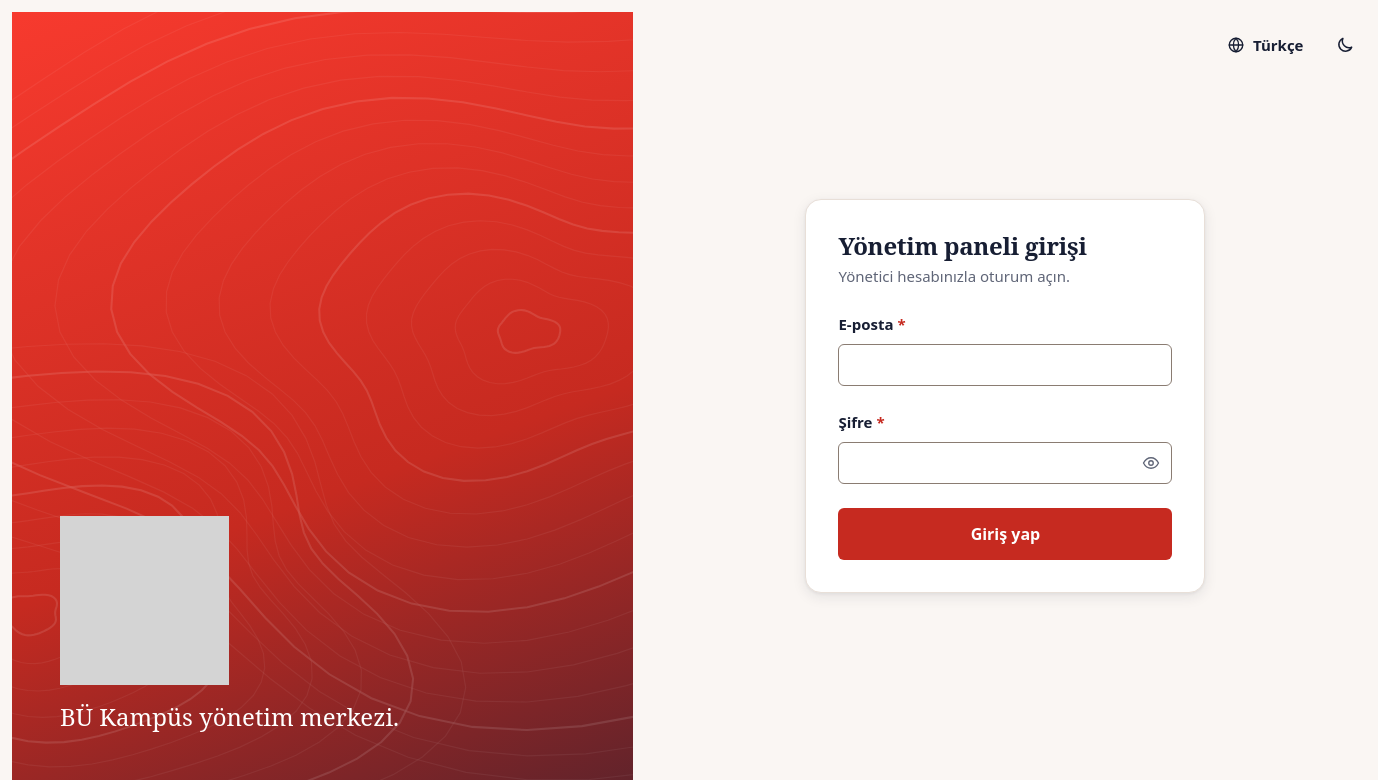
Scenario: giriş sayfası › hata kodunu çevrilmiş mesajla gösterir (EMAIL_NOT_VERIFIED)
Type "x@bingol.edu.tr" into the field labelled "E-posta *". click: coordinates (1005, 365)
box: [838,344,1172,386]
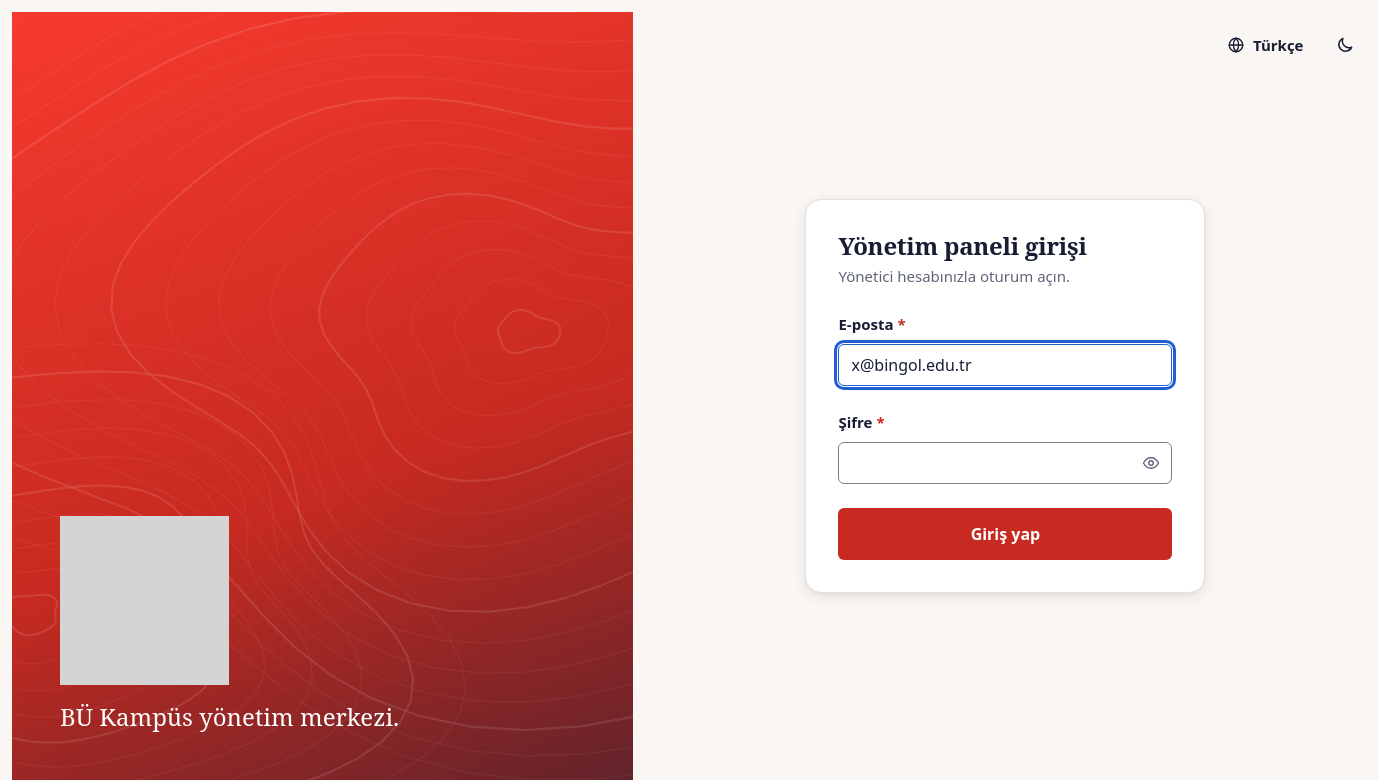
Type "sifre1234" into the password field labelled "Şifre *". click: coordinates (1005, 463)
box: [838,442,1172,484]
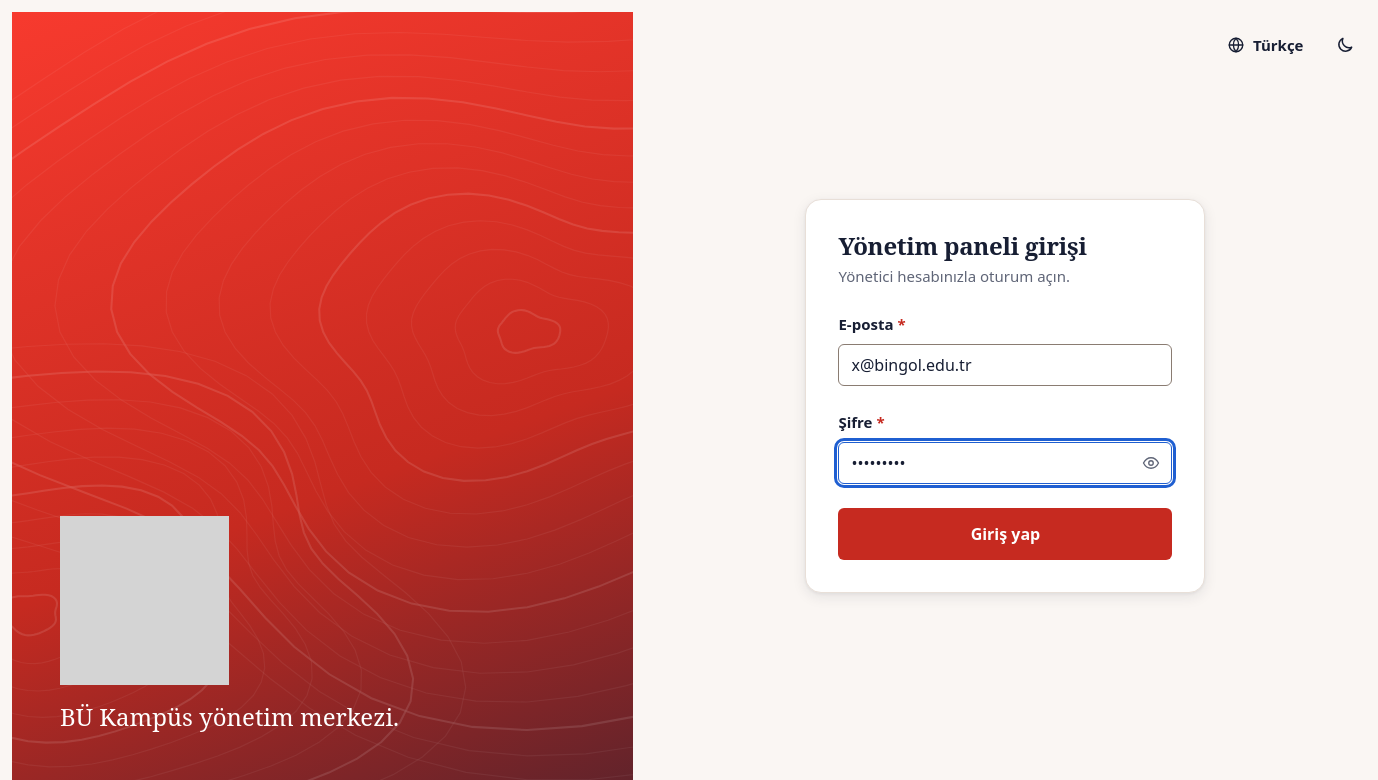
Click the button "Giriş yap". click: coordinates (1005, 534)
box: [838,508,1172,560]
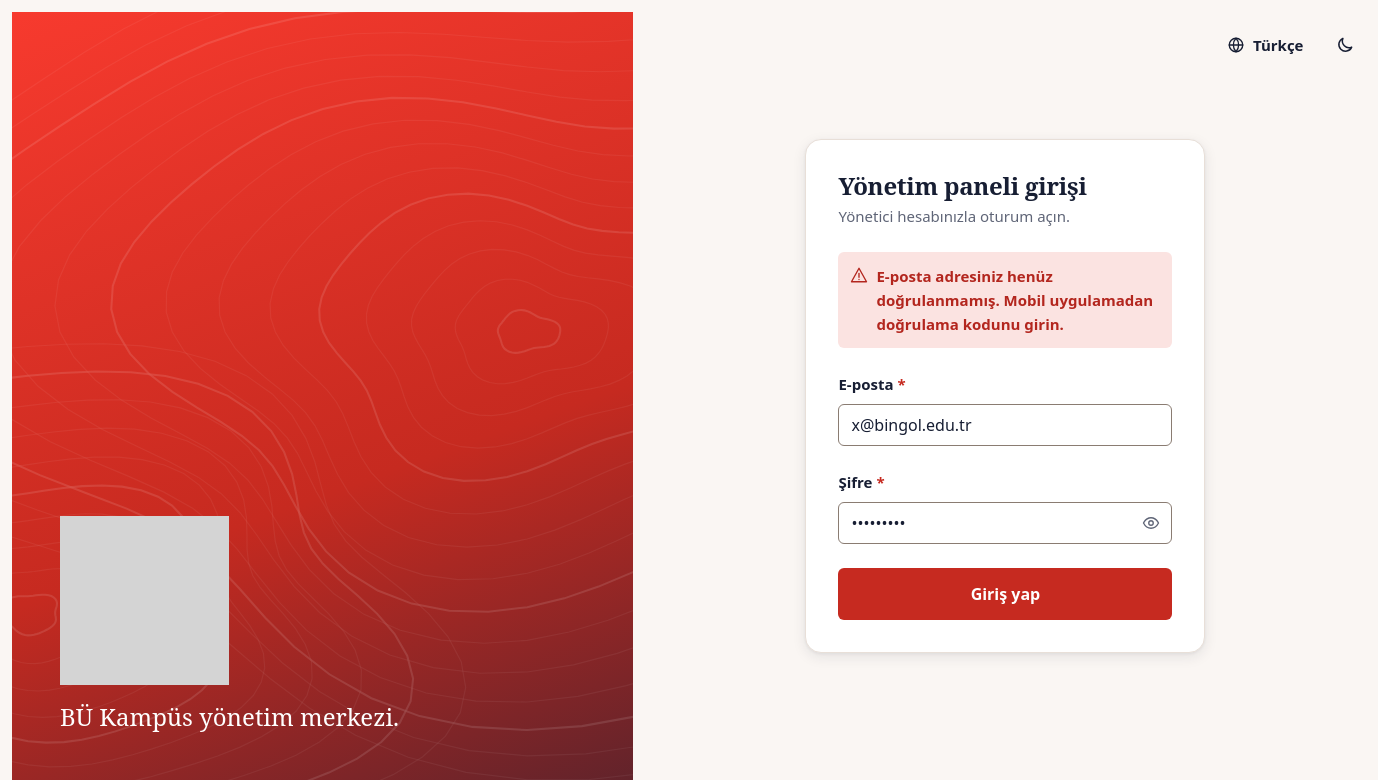
Expected: the text "henüz doğrulanmamış" is shown, [876,266,1153,334]
